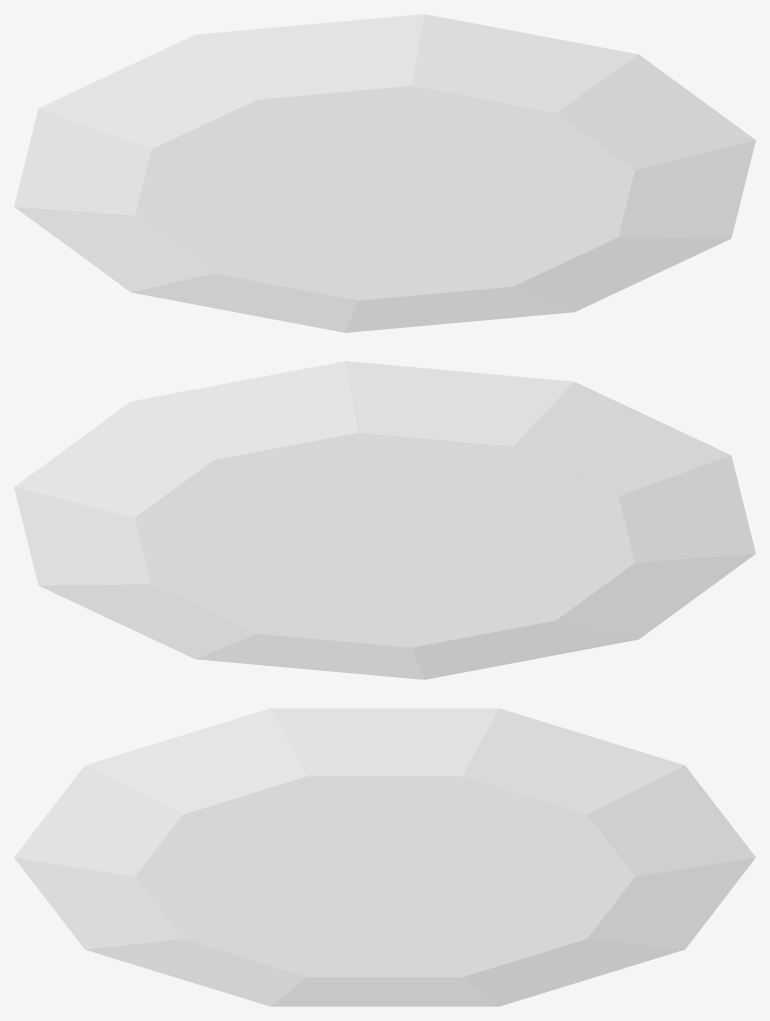
File: tableplate01.obj
3 renders of one model, top to bottom at view 1: azimuth 30°, elevation 25°; view 2: azimuth 150°, elevation 25°; view 3: azimuth 270°, elevation 25°, orthographic. The views are drawn at different scales.
Visible parts, largest first — view 1: Cylinder.001; view 2: Cylinder.001; view 3: Cylinder.001.
Part boxes in pixels (x1,y1,x2,y2): Cylinder.001: (14,14,755,332); Cylinder.001: (14,361,755,679); Cylinder.001: (14,708,755,1006).
Bounding box in the file's own units: 0.2903 × 0.00967 × 0.3053.
